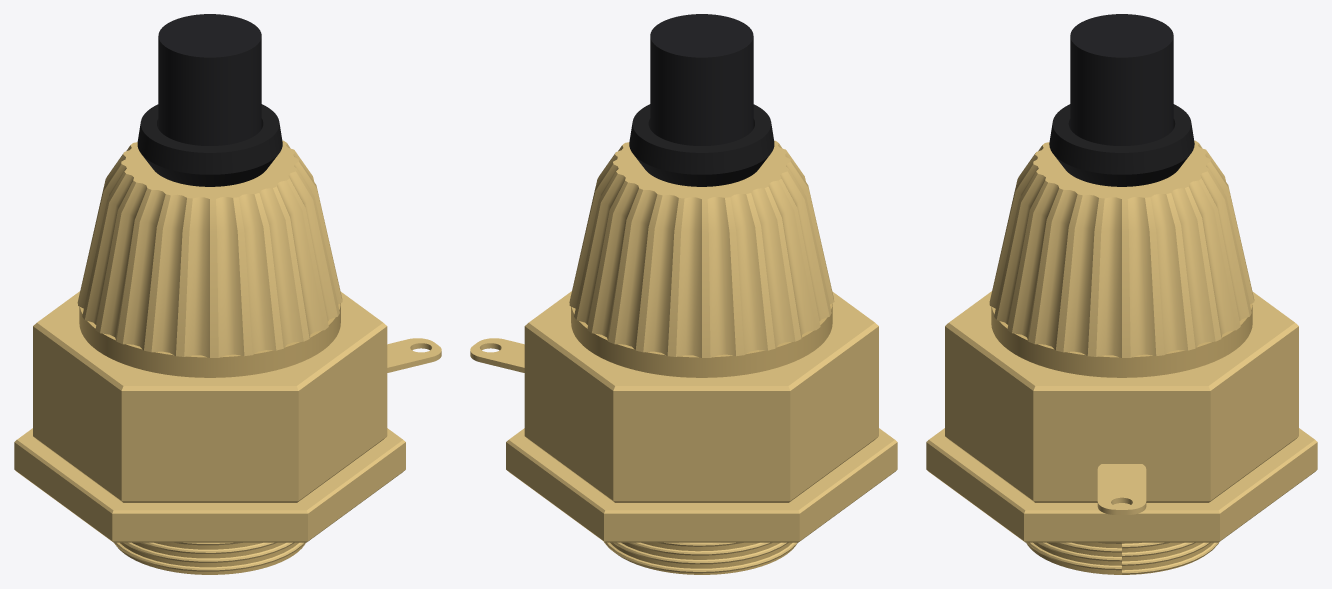
The model's file is gland.glb.
3 renders of one model, left to right at view 1: azimuth 30°, elevation 25°; view 2: azimuth 150°, elevation 25°; view 3: azimuth 270°, elevation 25°, orthographic.
Visible parts, largest first — view 1: body, dome_nut, locknut, cable, seal, shoulder, thread, earth_tag, thread_0, thread_1, thread_2; view 2: body, dome_nut, locknut, cable, seal, shoulder, thread, earth_tag, thread_0, thread_1, thread_2; view 3: body, dome_nut, locknut, cable, seal, shoulder, thread, earth_tag, thread_0, thread_1, thread_2.
Part boxes in pixels (x1=…): body: x1=33, y1=291, x2=387, y2=502; dome_nut: x1=77, y1=140, x2=342, y2=357; locknut: x1=14, y1=428, x2=405, y2=542; cable: x1=158, y1=14, x2=261, y2=145; seal: x1=137, y1=104, x2=282, y2=186; shoulder: x1=79, y1=303, x2=340, y2=377; thread: x1=116, y1=542, x2=305, y2=574; earth_tag: x1=387, y1=338, x2=441, y2=372; thread_0: x1=114, y1=542, x2=304, y2=571; thread_1: x1=123, y1=542, x2=294, y2=562; thread_2: x1=140, y1=542, x2=276, y2=553; body: x1=524, y1=291, x2=878, y2=502; dome_nut: x1=569, y1=140, x2=834, y2=357; locknut: x1=506, y1=428, x2=897, y2=542; cable: x1=650, y1=14, x2=753, y2=145; seal: x1=629, y1=104, x2=774, y2=186; shoulder: x1=571, y1=303, x2=832, y2=377; thread: x1=610, y1=542, x2=795, y2=574; earth_tag: x1=470, y1=338, x2=524, y2=372; thread_0: x1=604, y1=542, x2=797, y2=573; thread_1: x1=613, y1=542, x2=788, y2=564; thread_2: x1=628, y1=542, x2=772, y2=555; body: x1=945, y1=291, x2=1298, y2=502; dome_nut: x1=989, y1=140, x2=1254, y2=357; locknut: x1=926, y1=428, x2=1317, y2=542; cable: x1=1070, y1=14, x2=1173, y2=145; seal: x1=1049, y1=104, x2=1194, y2=186; shoulder: x1=991, y1=303, x2=1252, y2=377; thread: x1=1026, y1=542, x2=1213, y2=574; earth_tag: x1=1097, y1=464, x2=1146, y2=514; thread_0: x1=1027, y1=542, x2=1218, y2=574; thread_1: x1=1038, y1=542, x2=1210, y2=565; thread_2: x1=1056, y1=542, x2=1195, y2=557.
Size of the model in its own units: 0.1335 by 0.17 by 0.1212.
